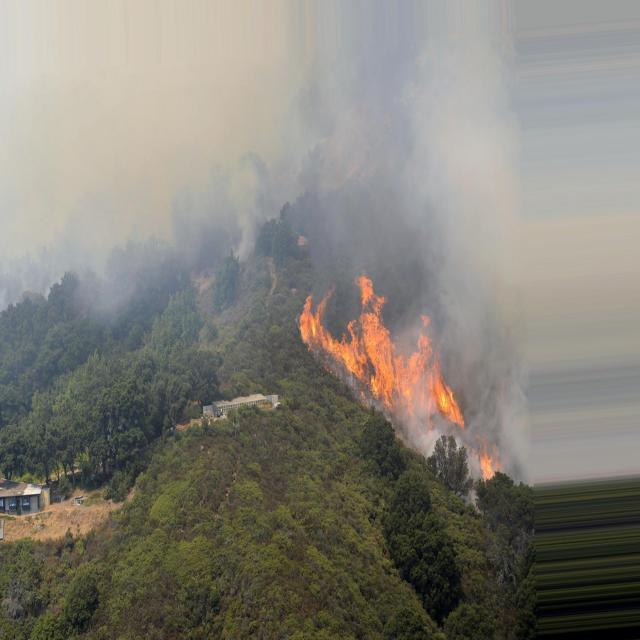fire: (293, 259, 466, 430), (465, 433, 507, 496)
smoke: (19, 72, 262, 288), (437, 47, 532, 425), (298, 20, 429, 293)
